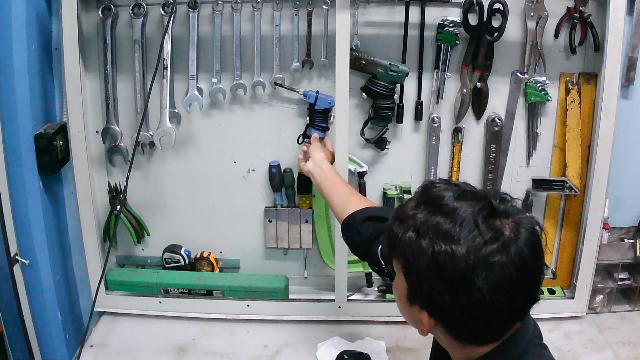solder_electrical: (275, 80, 335, 153)
